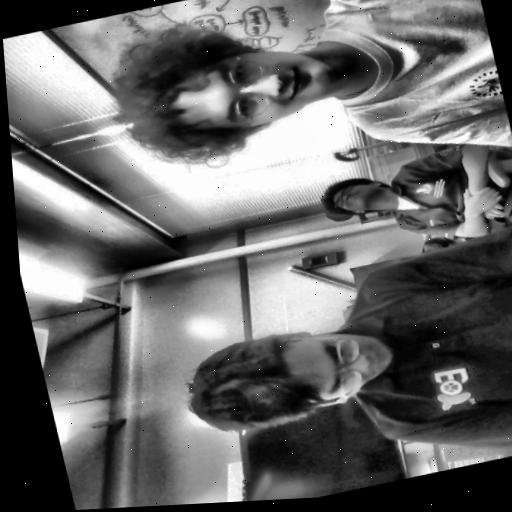Daifuku: (92, 0, 348, 183)
Not Daifuku: (170, 312, 394, 442), (313, 168, 398, 227)
